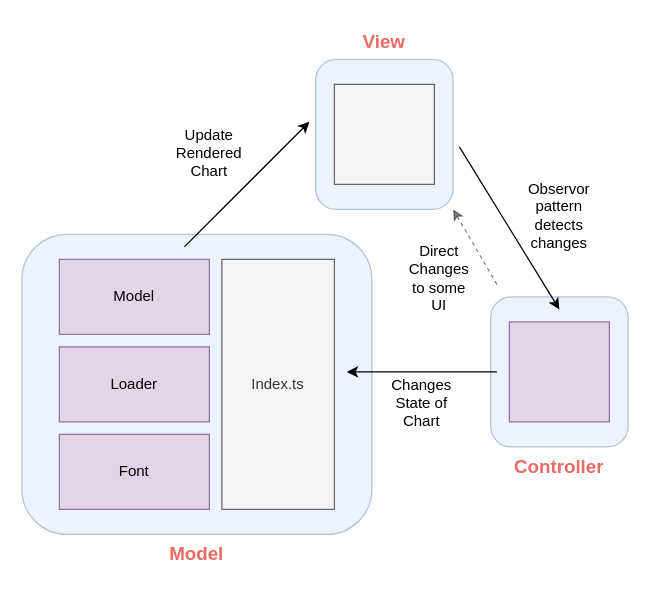
The diagram is 650 pixels wide and 593 high, and some of its shapes have lost their labels. The shapes that lost their labels are listed below. From the top down, each one's centre as x and y in pixels, then its label:
At (383,133): "Index.html".
At (558,371): "Control".
